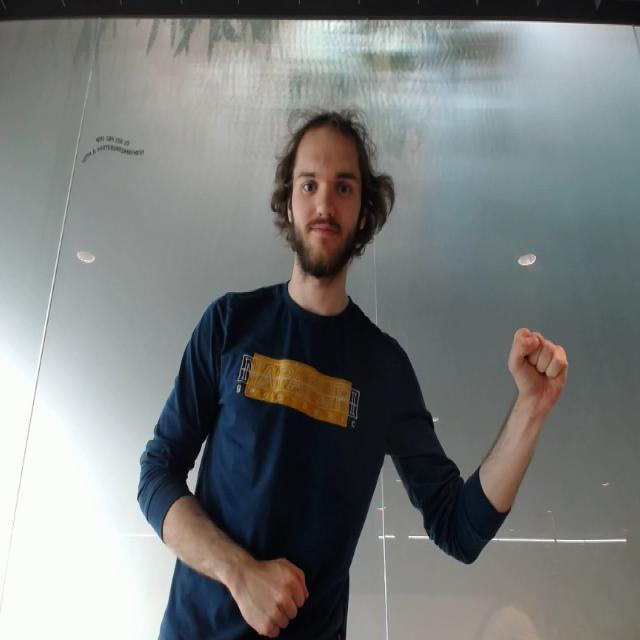stop: (503, 315, 577, 405)
